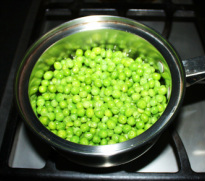boiled peas: (41, 55, 161, 132)
